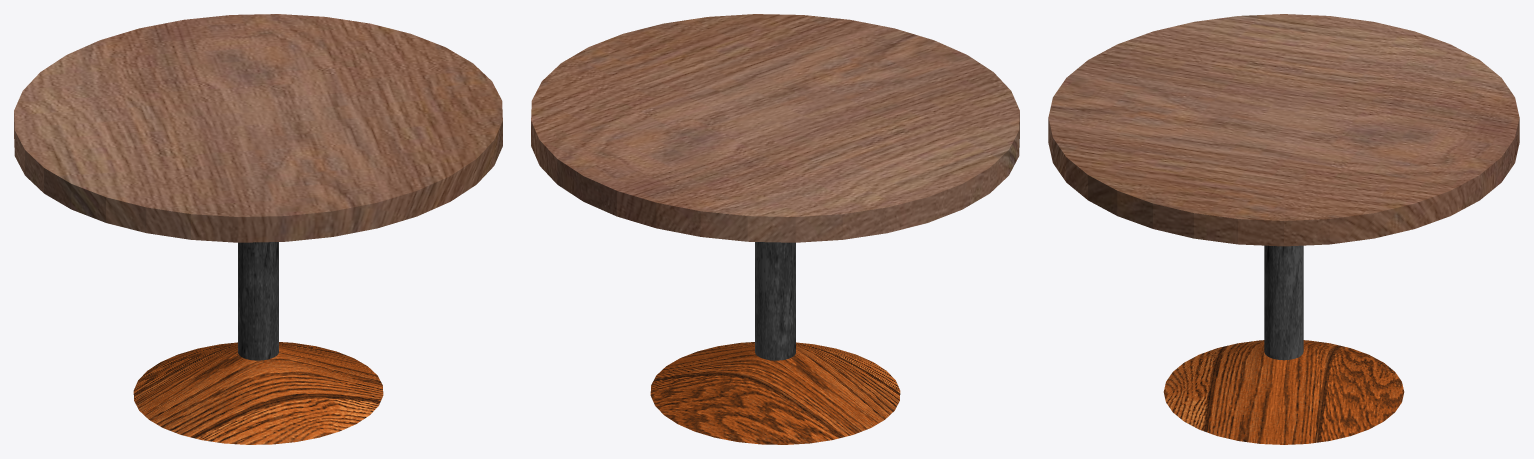
File: mesa redonda texture.fbx
3 views of the same model, side by side, from view 1: azimuth 30°, elevation 25°; view 2: azimuth 150°, elevation 25°; view 3: azimuth 270°, elevation 25° (orthographic).
Parts seen in each view (by area): view 1: Cylinder; view 2: Cylinder; view 3: Cylinder.
Part boxes in pixels (x1,y1,x2,y2): Cylinder: (14, 14, 502, 444); Cylinder: (531, 14, 1019, 444); Cylinder: (1048, 14, 1519, 444).
Bounding box in the file's own units: 420 × 260 × 404.
3 materials, 3 textured.
